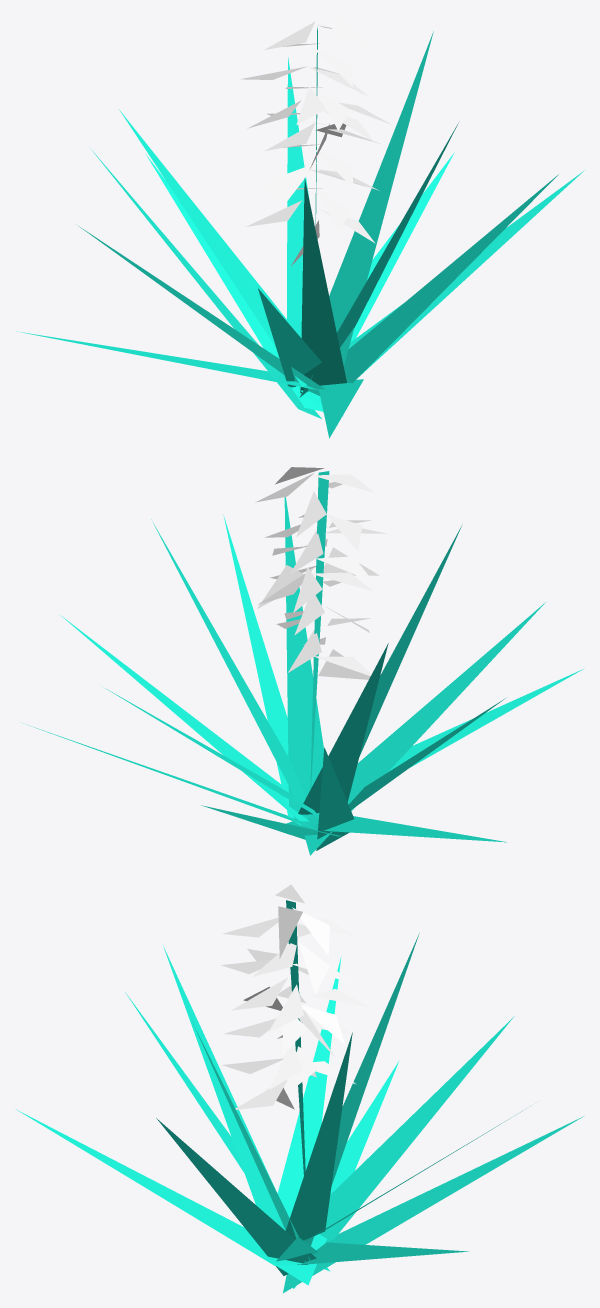
Rendered from Yucca_LOD3.fbx.
The picture shows the model from 3 angles, top to bottom: view 1: azimuth 30°, elevation 25°; view 2: azimuth 150°, elevation 25°; view 3: azimuth 270°, elevation 25°; orthographic projection. The views are drawn at different scales.
Visible parts, largest first — view 1: Yucca_LOD3; view 2: Yucca_LOD3; view 3: Yucca_LOD3.
Boxes of the visible parts, x1=… form: Yucca_LOD3: x1=16, y1=14, x2=584, y2=438; Yucca_LOD3: x1=23, y1=467, x2=584, y2=855; Yucca_LOD3: x1=16, y1=884, x2=583, y2=1292.
Bounding box in the file's own units: 179 × 134 × 183.
